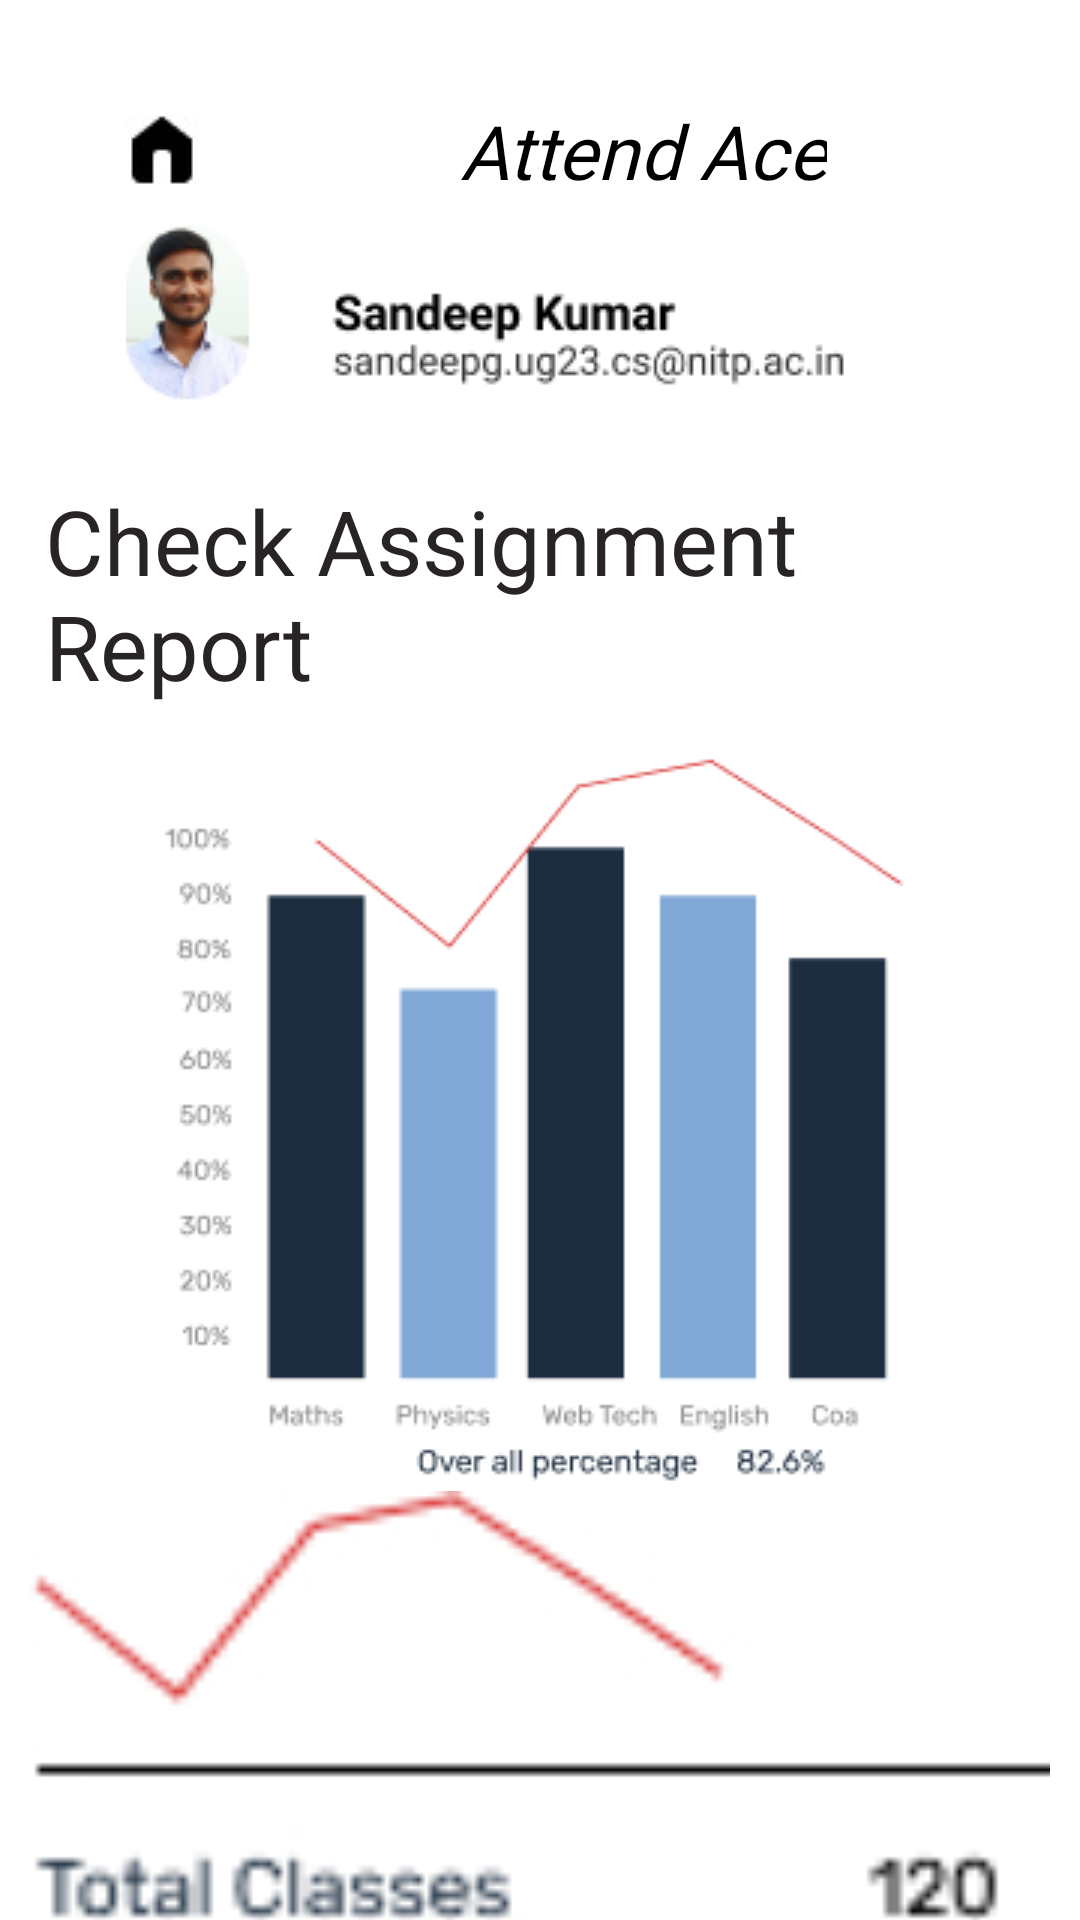

Where icons sit on this 1080x1920 app screen, as (x1, y1, x2, y2):
home: (131, 116, 193, 184)
